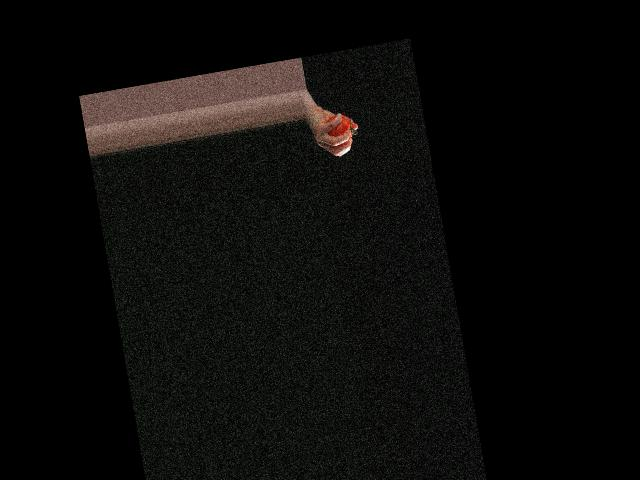tomato: (323, 112, 352, 141)
